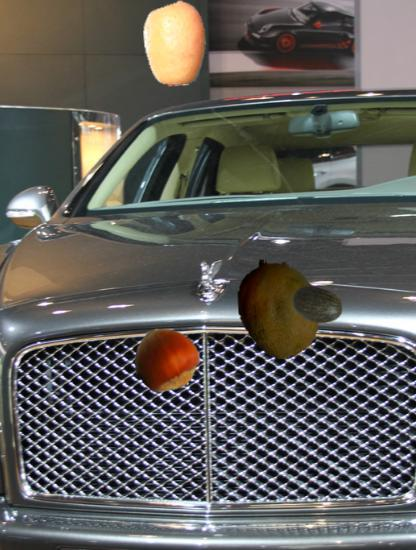Kumquats: (132, 1, 218, 87)
Melon: (292, 277, 345, 330)
Nut: (133, 327, 199, 393)
Papaya: (228, 259, 328, 359)
